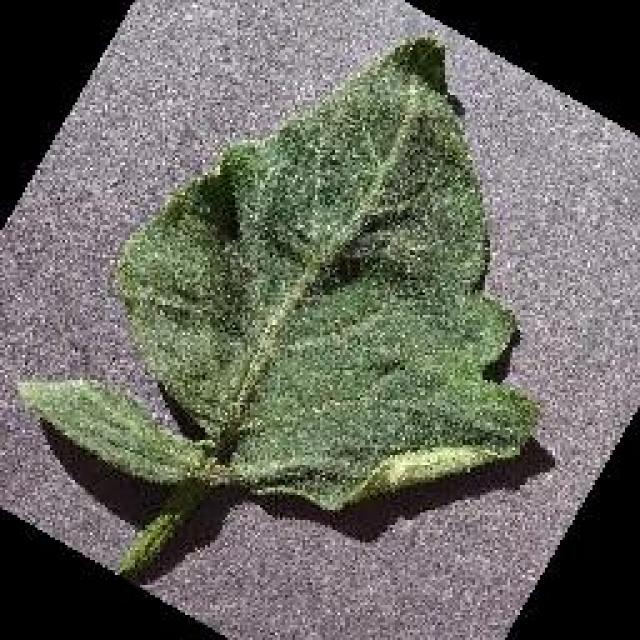Tomato___healthy: (13, 37, 538, 571)
